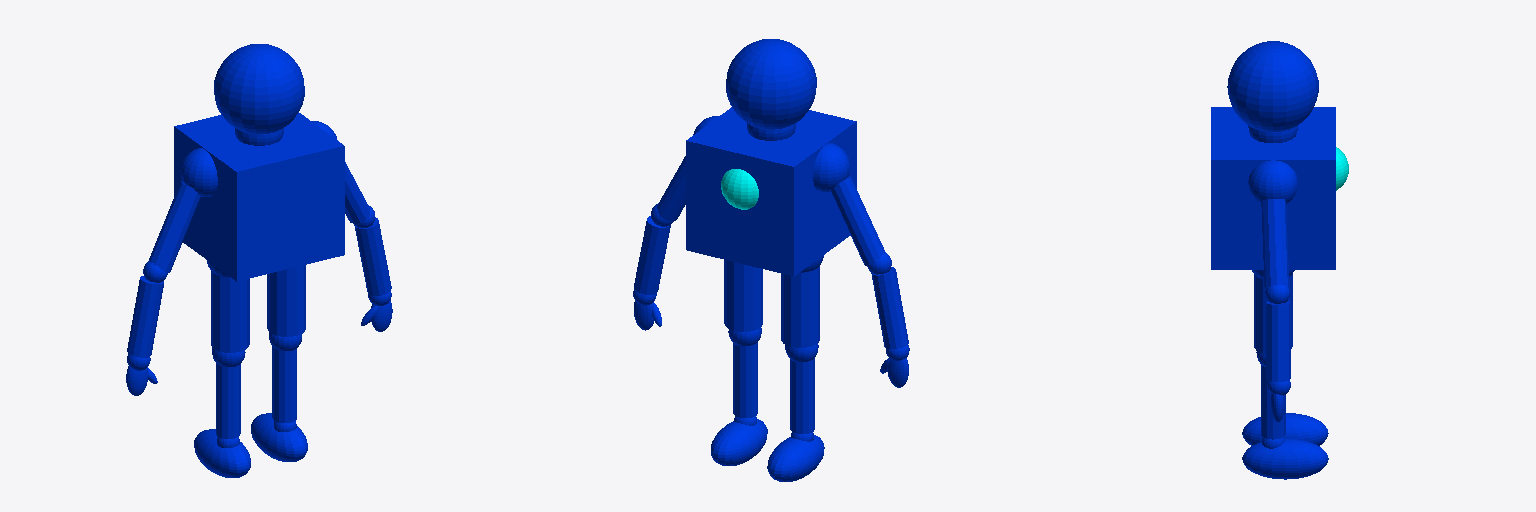
3 views of the same model, side by side, from view 1: azimuth 30°, elevation 25°; view 2: azimuth 150°, elevation 25°; view 3: azimuth 270°, elevation 25° (orthographic).
Bounding box in the file's own units: 12.47 × 18.61 × 5.54.
2 materials, 1 textured.